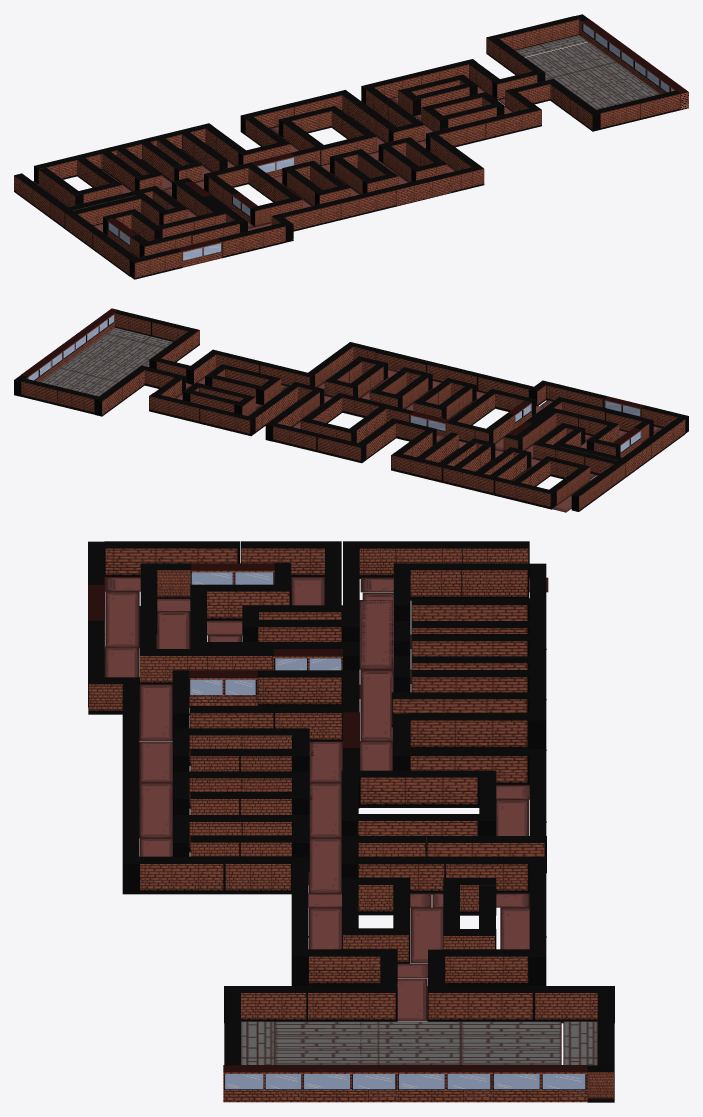
File: Laberinto2.fbx
The picture shows the model from 3 angles, top to bottom: view 1: azimuth 30°, elevation 25°; view 2: azimuth 150°, elevation 25°; view 3: azimuth 270°, elevation 25°; orthographic projection. The views are drawn at different scales.
Parts seen in each view (by area): view 1: pCube52, pCube115, pCube97, pCube96, pCube50, pCube70, pCube102, pCube14, pCube45, pCube95, pCube26, pCube91 (+80 smaller); view 2: pCube26, pCube103, pCube25, pCube22, pCube114, pCube88, pCube89, pCube52, pCube45, pCube102, polySurface47, pCube70 (+82 smaller); view 3: pCube90, pCube24, pCube184, pCube194, pCube193, pCube192, pCube45, pCube99, pCube122, pCube116, pCube61, pCube28 (+100 smaller).
Boxes of the visible parts, <box> form: pCube52: <box>218,223,285,258</box>; pCube115: <box>482,106,541,139</box>; pCube97: <box>391,173,451,206</box>; pCube96: <box>336,187,396,219</box>; pCube50: <box>130,248,182,279</box>; pCube70: <box>280,200,340,231</box>; pCube102: <box>426,120,486,151</box>; pCube14: <box>182,132,227,171</box>; pCube45: <box>92,231,136,276</box>; pCube95: <box>316,133,376,165</box>; pCube26: <box>34,150,100,184</box>; pCube91: <box>278,106,338,137</box>; pCube26: <box>494,477,556,509</box>; pCube103: <box>199,405,255,436</box>; pCube25: <box>443,465,498,495</box>; pCube22: <box>391,452,446,482</box>; pCube114: <box>149,393,203,423</box>; pCube88: <box>317,434,366,463</box>; pCube89: <box>273,423,320,452</box>; pCube52: <box>546,382,607,407</box>; pCube45: <box>644,417,685,458</box>; pCube102: <box>259,362,314,386</box>; polySurface47: <box>57,387,98,414</box>; pCube70: <box>477,374,533,397</box>; pCube90: <box>360,770,479,807</box>; pCube24: <box>410,713,529,748</box>; pCube184: <box>427,986,534,1021</box>; pCube194: <box>492,1065,587,1102</box>; pCube193: <box>397,1065,492,1102</box>; pCube192: <box>302,1065,397,1102</box>; pCube45: <box>104,541,239,576</box>; pCube99: <box>139,856,224,894</box>; pCube122: <box>307,986,397,1021</box>; pCube116: <box>444,949,529,985</box>; pCube61: <box>409,749,529,784</box>; pCube28: <box>257,670,343,705</box>.
Bounding box in the file's own units: 74.02 × 1.99 × 31.08.
